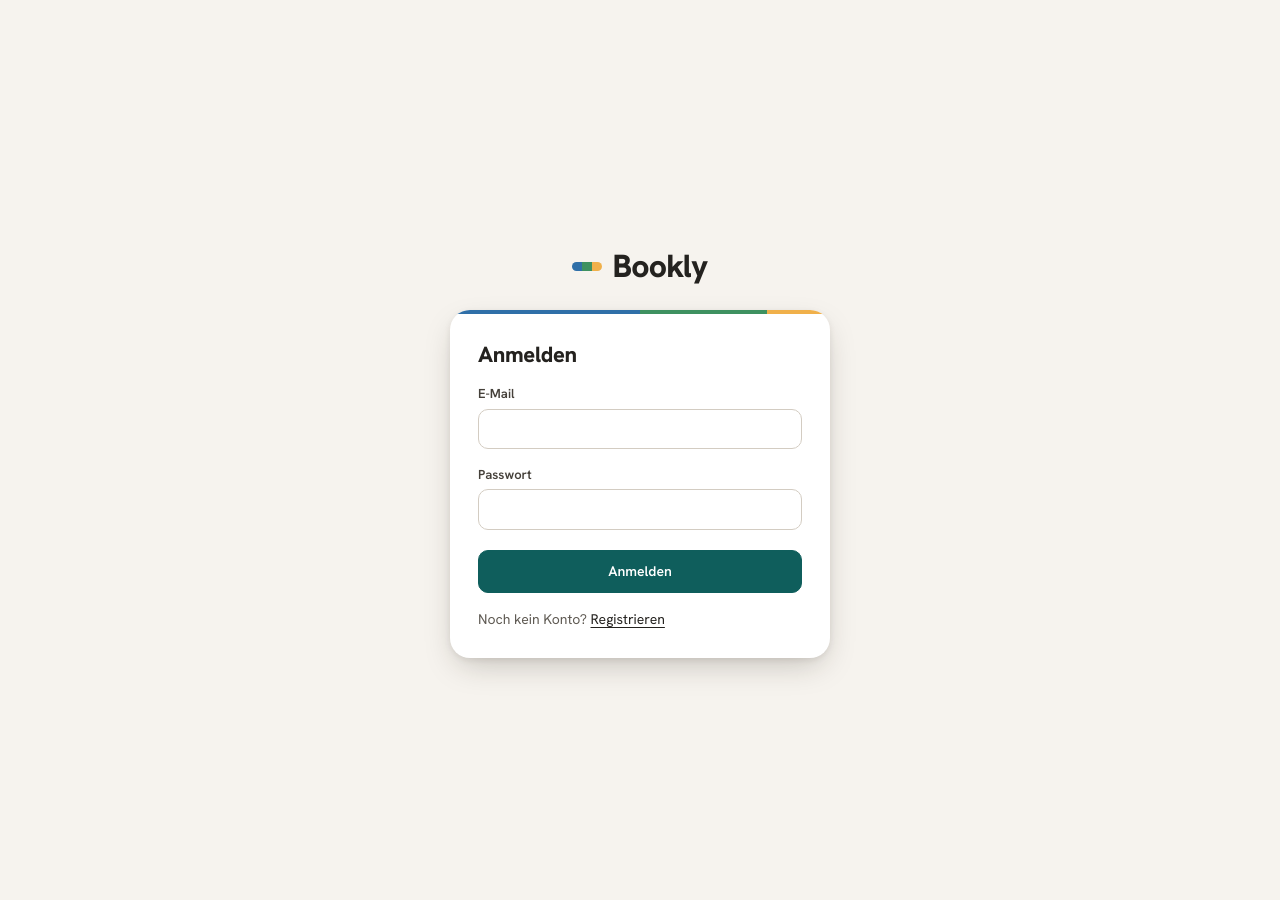
Test: LoginPage › posts credentials and navigates to the book list
Type "a@b.de" into the field labelled "E-Mail". click: (640, 429)
box: [478, 409, 802, 449]
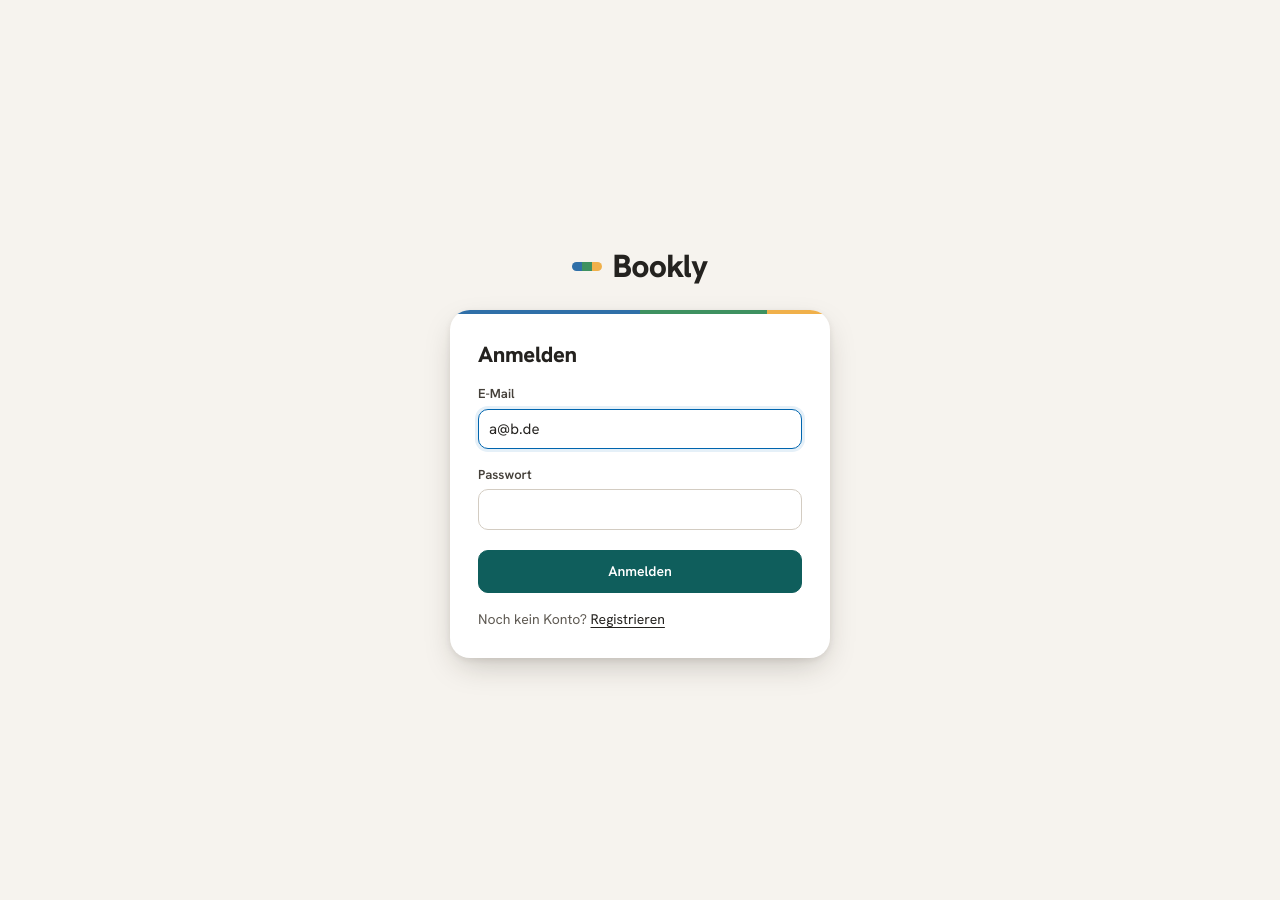
Type "geheim1234" into the password field labelled "Passwort". click: (640, 510)
box: [478, 490, 802, 530]
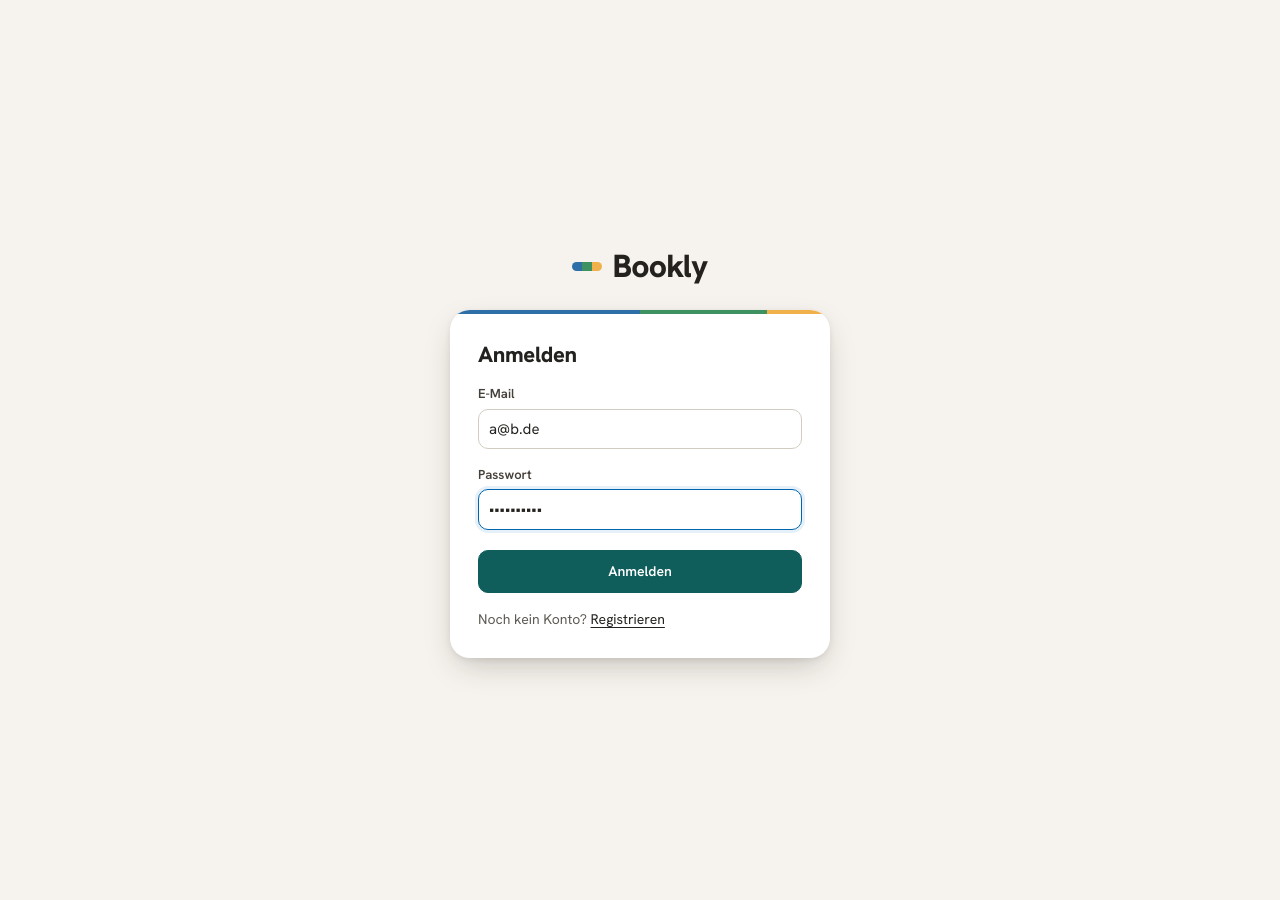
Click the button "Anmelden". click: (640, 572)
box: [478, 550, 802, 593]
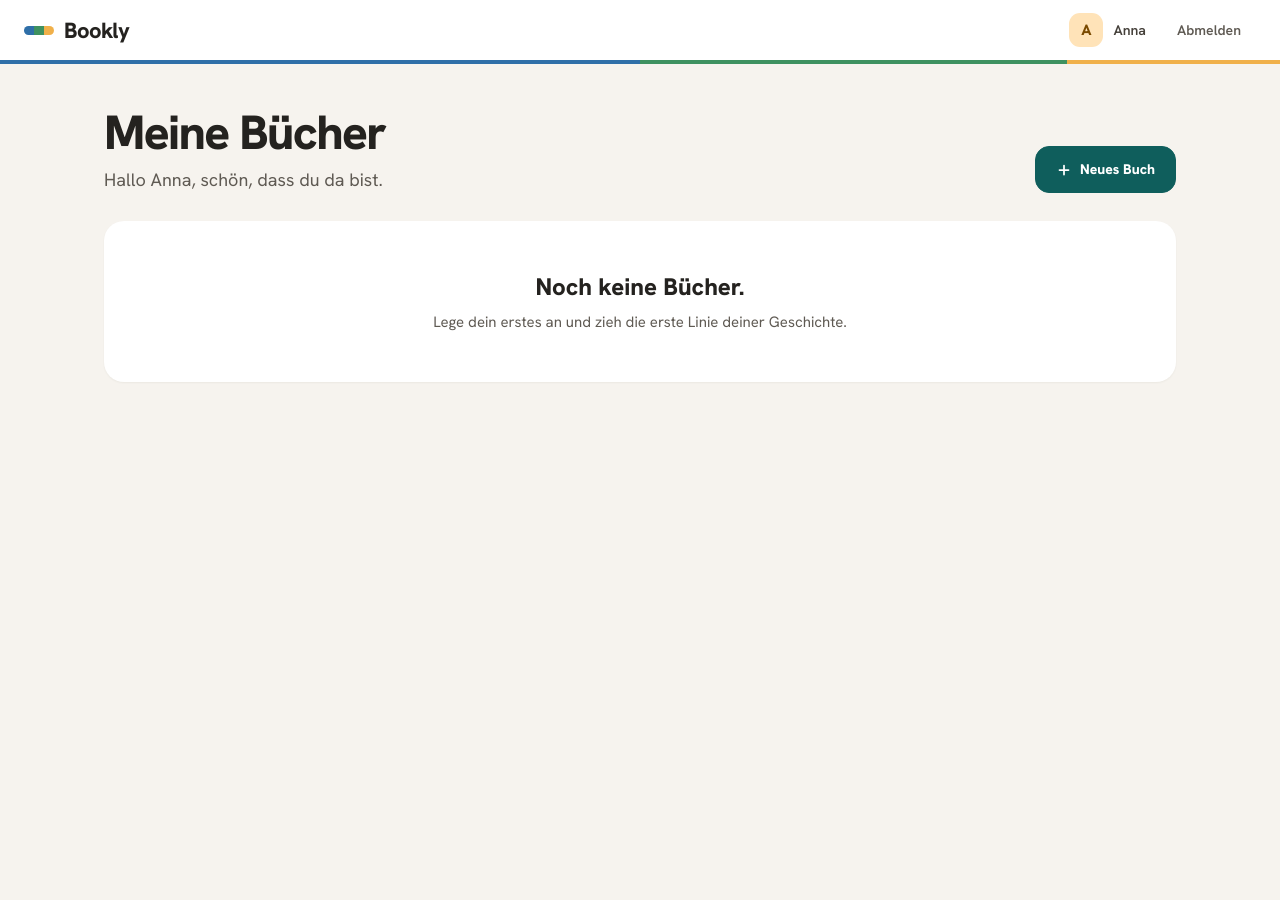
Now the heading "Meine Bücher" is shown, box [104, 108, 385, 158]
